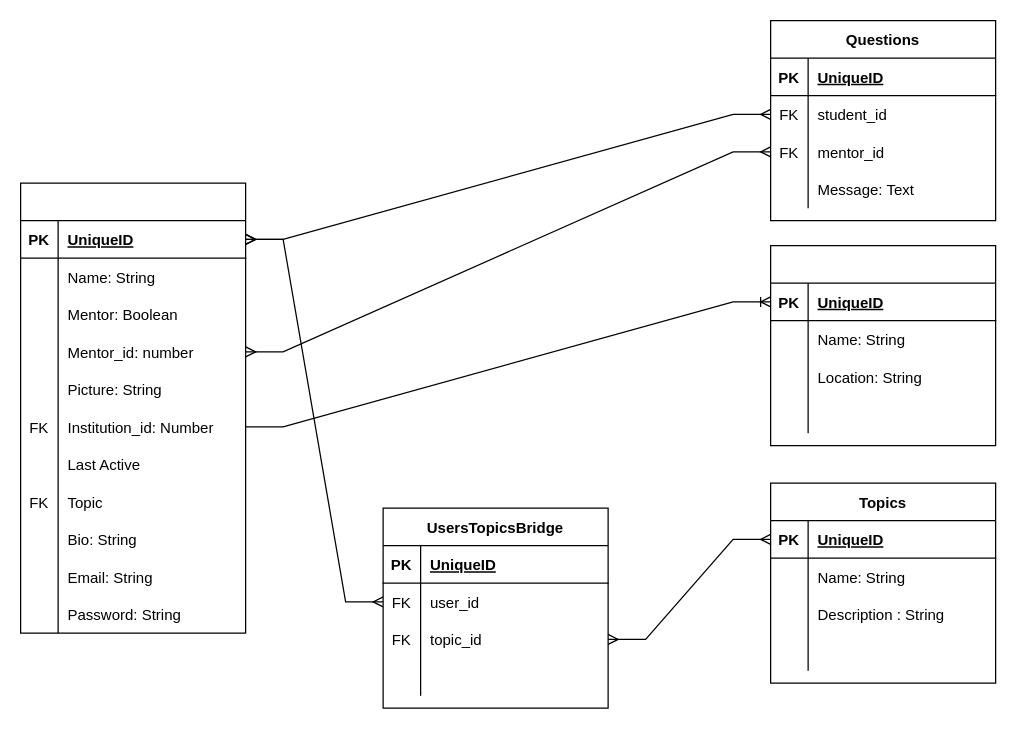
Image size: 1016x729. Some labels were removed from this diagram. Each missing label, with the box of its shape:
Institutions: (769, 244, 996, 446)
Users: (19, 182, 246, 633)
